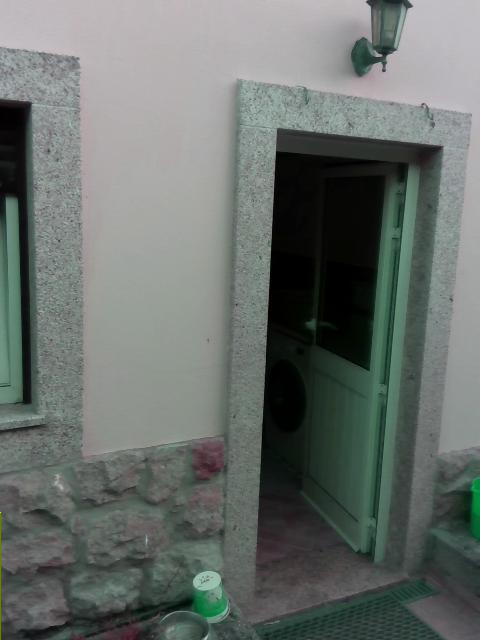open_door: (253, 127, 444, 589)
